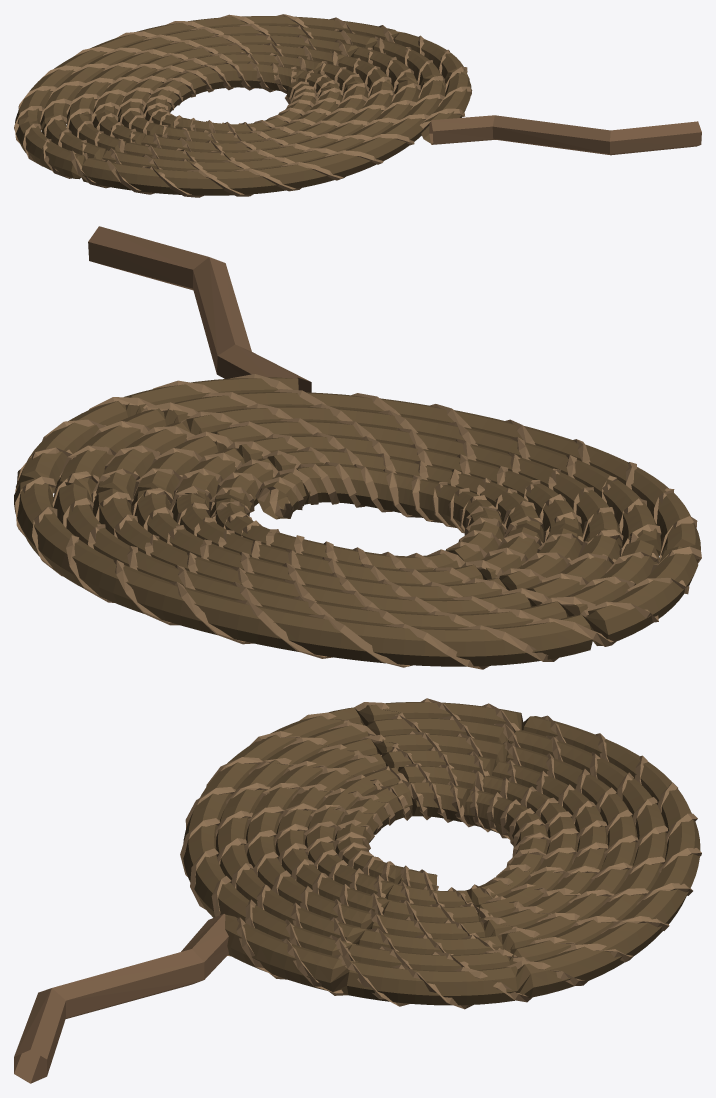
The model's file is laid_line.glb.
3 views of the same model, one above another, from view 1: azimuth 30°, elevation 25°; view 2: azimuth 150°, elevation 25°; view 3: azimuth 270°, elevation 25° (orthographic). The views are drawn at different scales.
Visible parts, largest first — view 1: laid_line; view 2: laid_line; view 3: laid_line.
Part boxes in pixels (left/top/right/bottom): laid_line: left=14, top=14, right=701, bottom=197; laid_line: left=14, top=226, right=701, bottom=669; laid_line: left=14, top=698, right=701, bottom=1083.
Bounding box in the file's own units: 0.7896 × 0.0508 × 0.6398.
